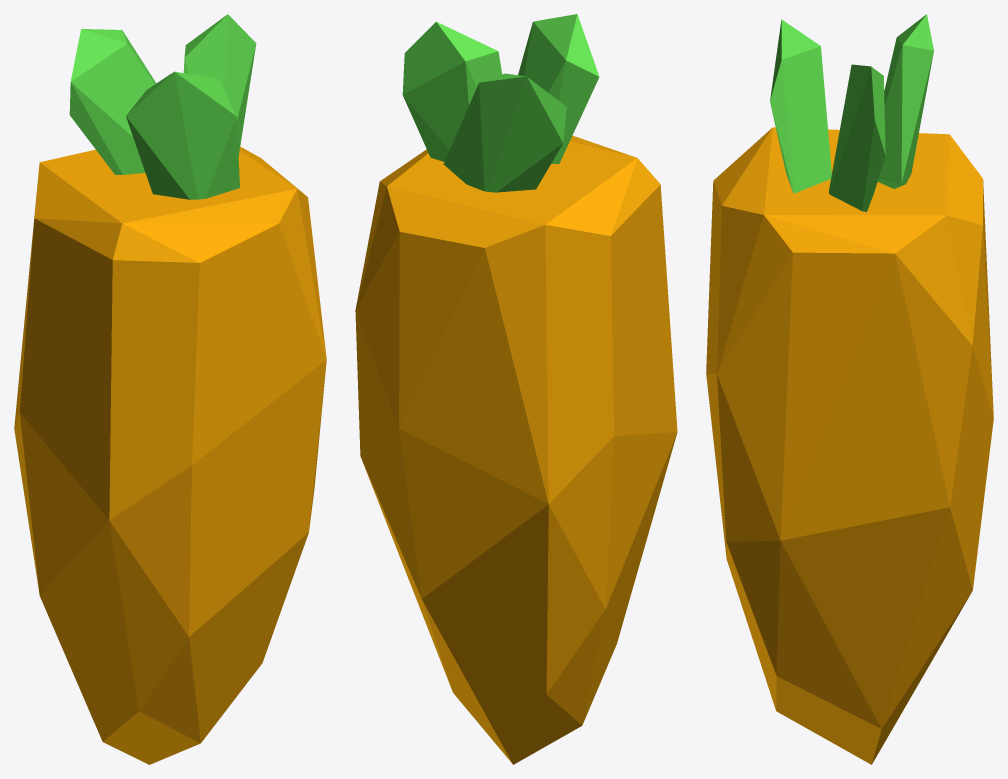
The model's file is zanahoria.fbx.
3 renders of one model, left to right at view 1: azimuth 30°, elevation 25°; view 2: azimuth 150°, elevation 25°; view 3: azimuth 270°, elevation 25°, orthographic.
Visible parts, largest first — view 1: Cube.017; view 2: Cube.017; view 3: Cube.017.
Boxes of the visible parts, <box> form: Cube.017: <box>14,14,326,764</box>; Cube.017: <box>355,14,677,764</box>; Cube.017: <box>706,14,993,764</box>.
Size of the model in its own units: 60.93 by 178 by 63.04.
